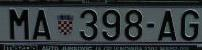-: (146, 23, 155, 29)
3: (79, 9, 98, 41)
8: (125, 10, 142, 41)
9: (102, 9, 120, 41)
A: (158, 10, 177, 42), (34, 9, 52, 41)
G: (180, 10, 199, 41)
M: (9, 9, 30, 40)
